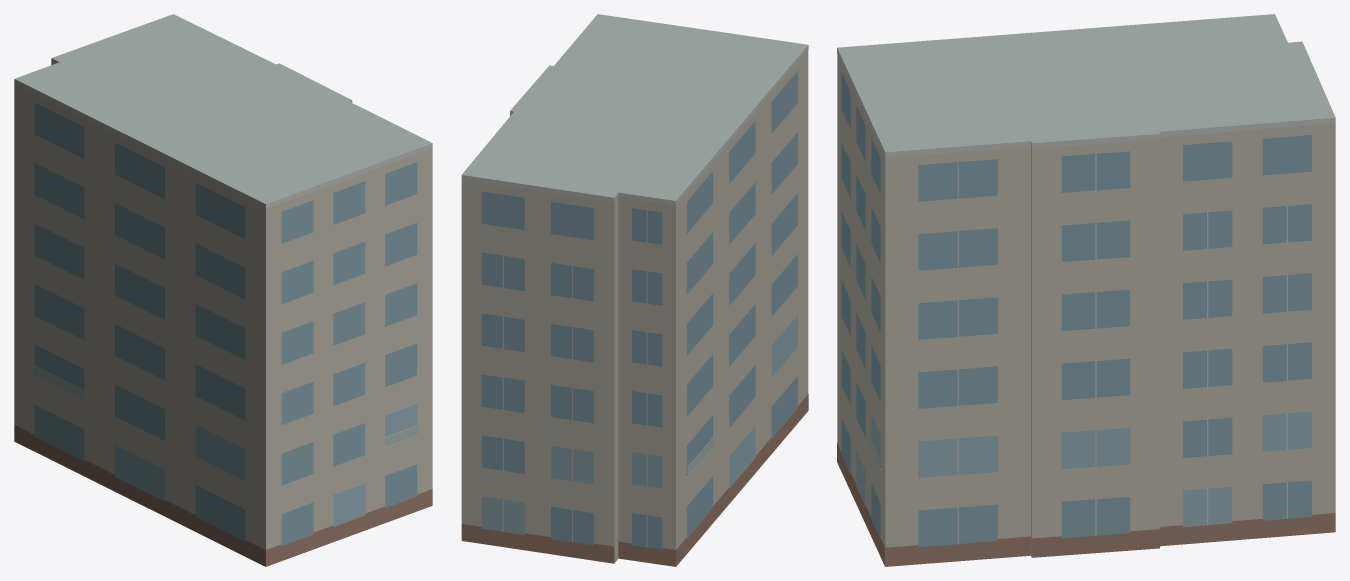
File: survey-upis-32714285.glb
3 views of the same model, side by side, from view 1: azimuth 30°, elevation 25°; view 2: azimuth 150°, elevation 25°; view 3: azimuth 270°, elevation 25° (orthographic). The views are drawn at different scales.
Visible parts, largest first — view 1: survey-upis-32714285.tmp; view 2: survey-upis-32714285.tmp; view 3: survey-upis-32714285.tmp.
Boxes of the visible parts, left/top/right/bottom form: survey-upis-32714285.tmp: left=14, top=14, right=432, bottom=566; survey-upis-32714285.tmp: left=461, top=14, right=808, bottom=566; survey-upis-32714285.tmp: left=837, top=14, right=1335, bottom=566.
Bounding box in the file's own units: 13.11 × 18.3 × 19.96.
